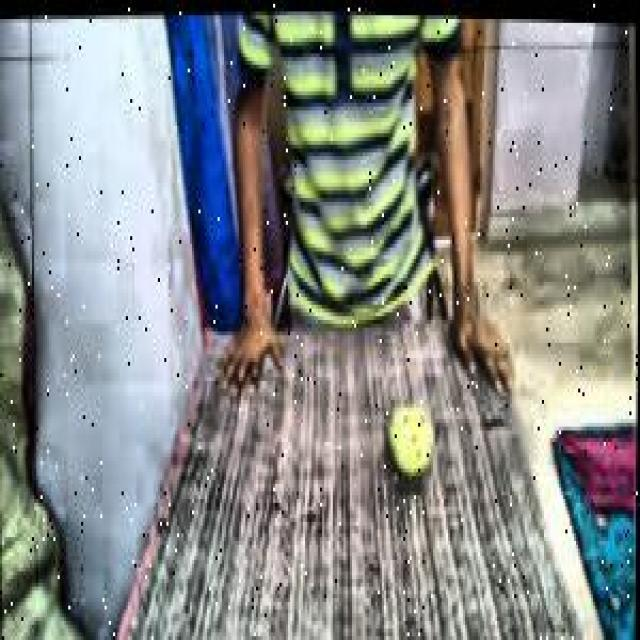tennis-ball: (384, 404, 438, 496)
